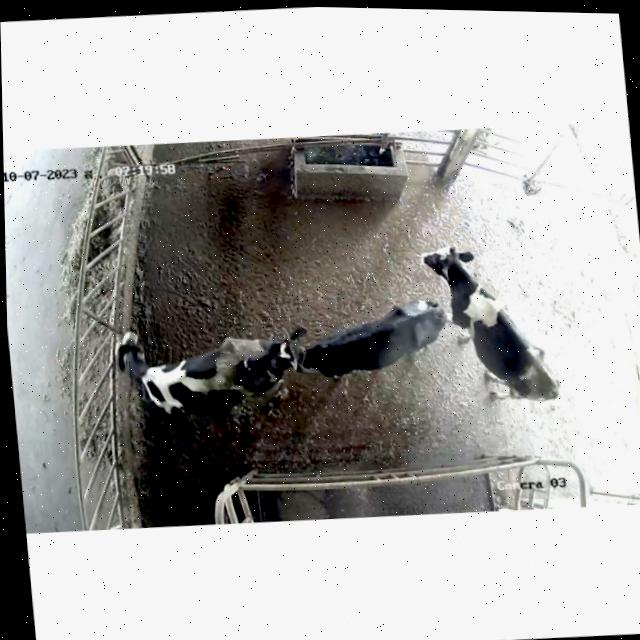propping: (207, 331, 324, 395)
